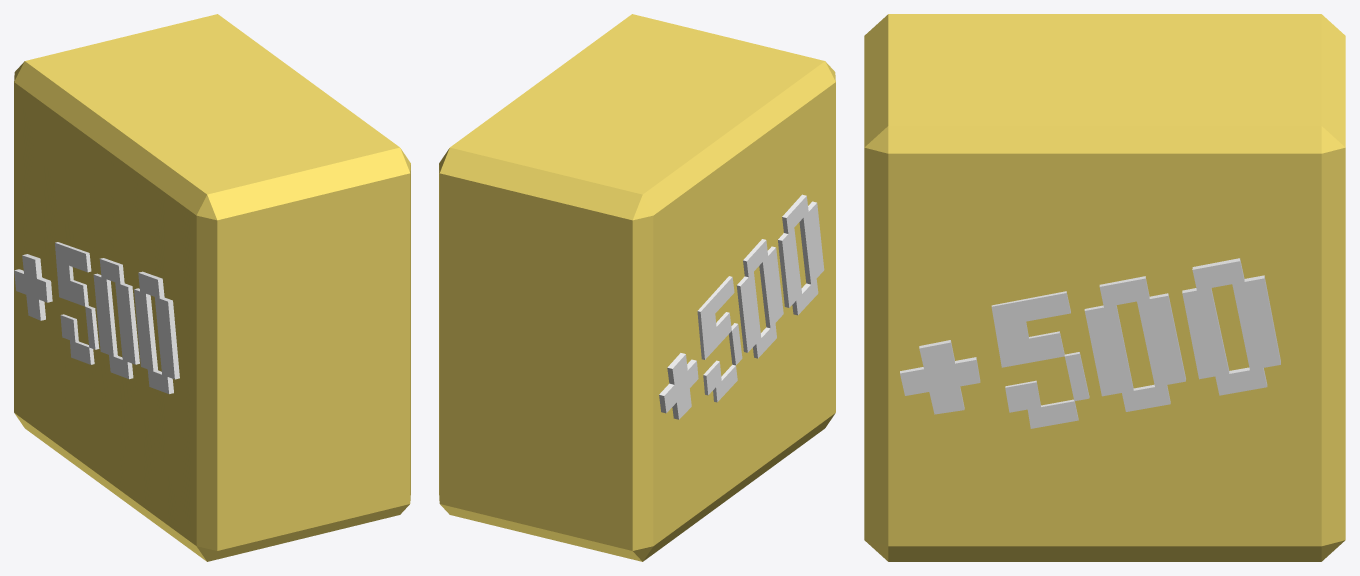
File: extra_points.glb
3 renders of one model, left to right at view 1: azimuth 30°, elevation 25°; view 2: azimuth 150°, elevation 25°; view 3: azimuth 270°, elevation 25°, orthographic. The views are drawn at different scales.
Parts seen in each view (by area): view 1: Cube, Plane.001; view 2: Cube, Plane.001; view 3: Cube, Plane.002.
Part boxes in pixels (x1,y1,x2,y2): Cube: [14, 14, 410, 561]; Plane.001: [14, 242, 179, 394]; Cube: [439, 14, 835, 561]; Plane.001: [659, 194, 824, 419]; Cube: [864, 14, 1345, 561]; Plane.002: [900, 258, 1280, 428].
Bounding box in the file's own units: 1.29 × 2 × 2.
